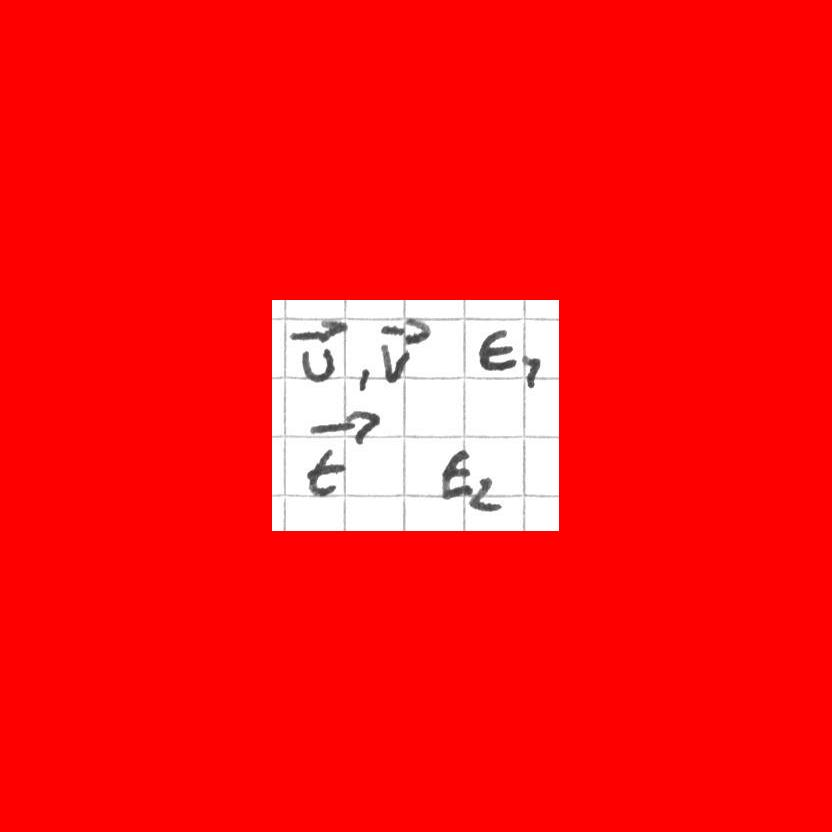Char: (305, 408, 382, 447), (301, 446, 348, 499), (287, 316, 353, 349), (475, 325, 518, 374), (378, 315, 439, 347), (439, 445, 472, 504), (298, 344, 336, 384), (466, 475, 506, 512), (380, 341, 412, 383), (518, 350, 544, 389), (355, 361, 375, 397)
